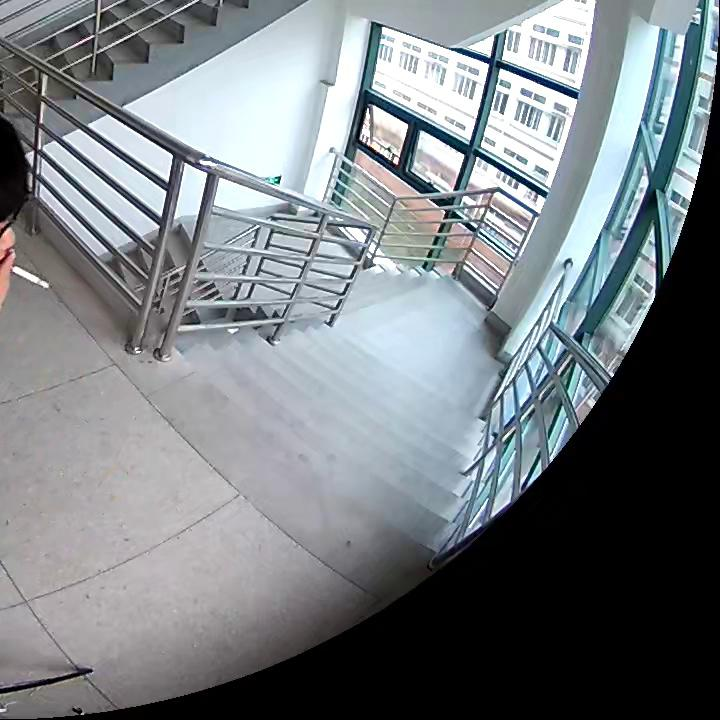mouthsmoke: (1, 119, 51, 308)
